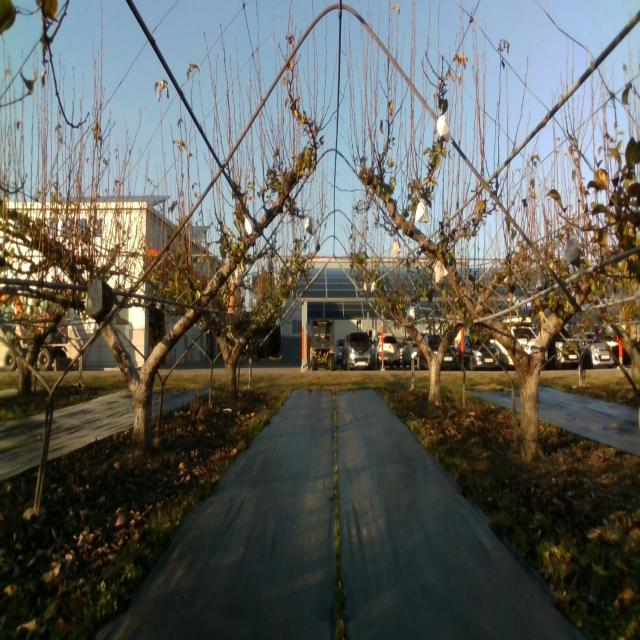pearbags: (565, 230, 581, 265), (436, 110, 452, 143), (414, 200, 430, 224), (434, 259, 448, 285)
